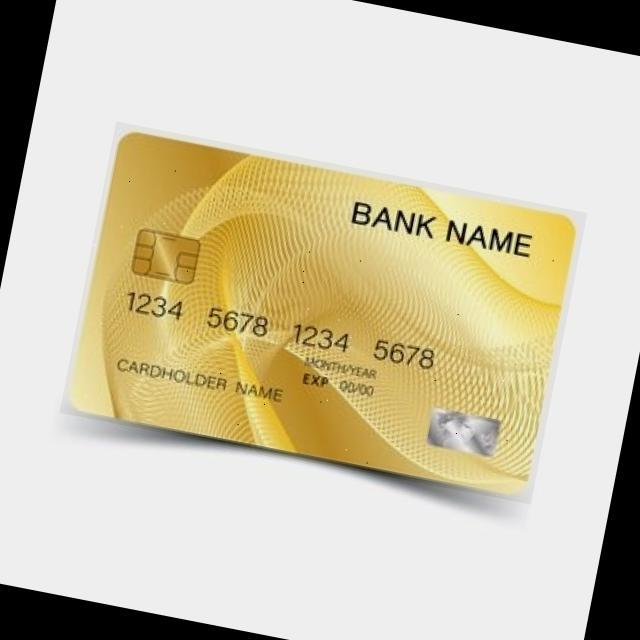payment_card: (60, 122, 588, 502)
